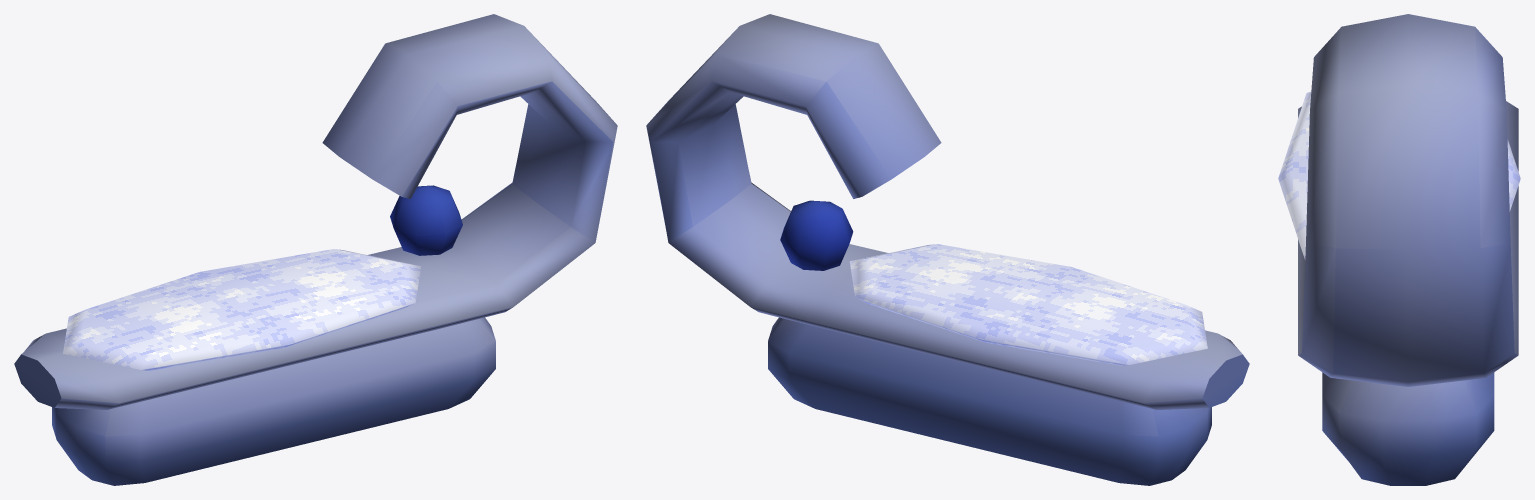
The model's file is furn.bench.glb.
3 renders of one model, left to right at view 1: azimuth 30°, elevation 25°; view 2: azimuth 150°, elevation 25°; view 3: azimuth 270°, elevation 25°, orthographic. The views are drawn at different scales.
Parts seen in each view (by area): view 1: kit_bench_body, kit_bench_legs, kit_bench_throw, kit_bench_extra; view 2: kit_bench_body, kit_bench_legs, kit_bench_throw, kit_bench_extra; view 3: kit_bench_body, kit_bench_legs, kit_bench_throw.
Boxes of the visible parts, left/top/right/bottom form: kit_bench_body: left=14, top=14, right=617, bottom=409; kit_bench_legs: left=52, top=317, right=495, bottom=485; kit_bench_throw: left=63, top=249, right=421, bottom=370; kit_bench_extra: left=390, top=185, right=462, bottom=255; kit_bench_body: left=646, top=14, right=1249, bottom=409; kit_bench_legs: left=768, top=317, right=1211, bottom=485; kit_bench_throw: left=849, top=244, right=1207, bottom=365; kit_bench_extra: left=780, top=200, right=853, bottom=270; kit_bench_body: left=1298, top=14, right=1518, bottom=386; kit_bench_legs: left=1322, top=372, right=1494, bottom=485; kit_bench_throw: left=1278, top=91, right=1520, bottom=259.
Bounding box in the file's own units: 2.32 × 1.36 × 0.682.
3 materials, 1 textured.
